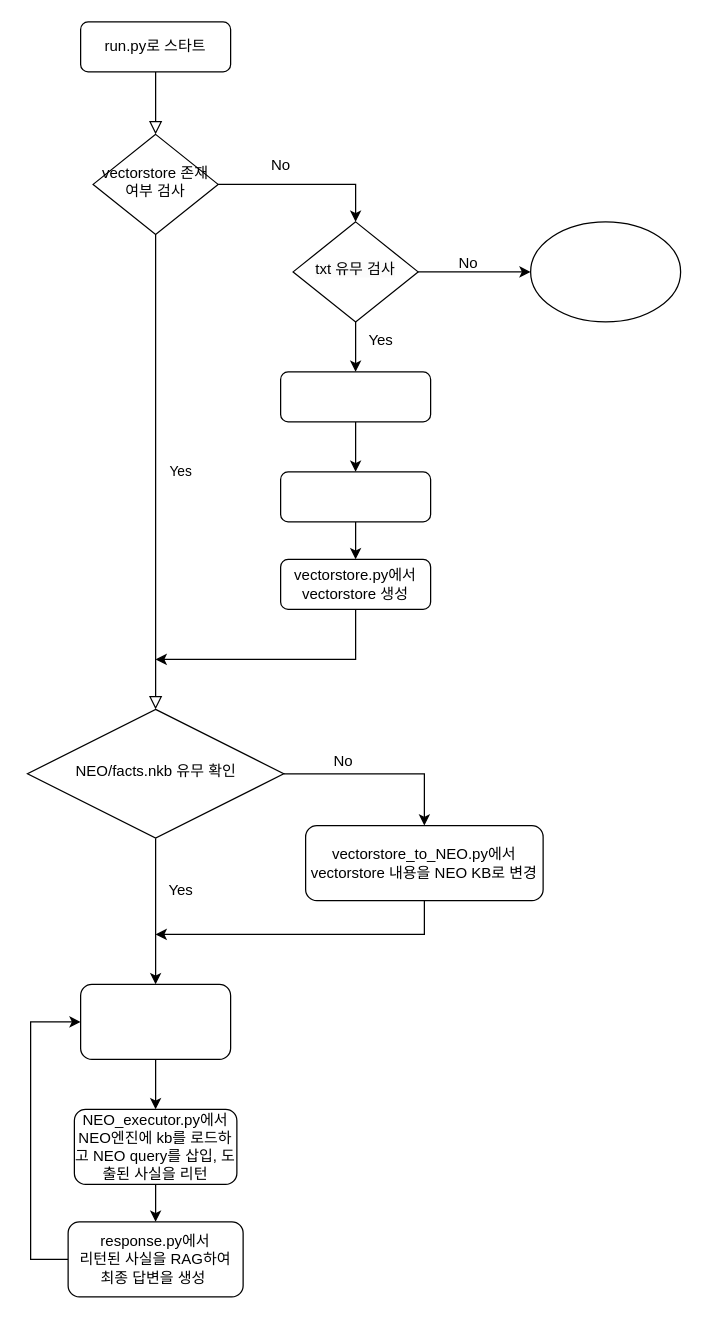
Image size: 703x1319. Some labels were removed from this diagram. Here are the shapes that lost their labels. From the top down, the centre of each, then its label:
At (x=605, y=271): "오류 출력 후 종료".
At (x=355, y=396): "ollama_preprocessor.py에서 단순 문장화".
At (x=355, y=496): "data_preprocessor.py에서 구문분석".
At (x=155, y=1021): "query_to_NEO에서 사용자 질의 요청 후 자연어 질의를 NEO query로 작성".
